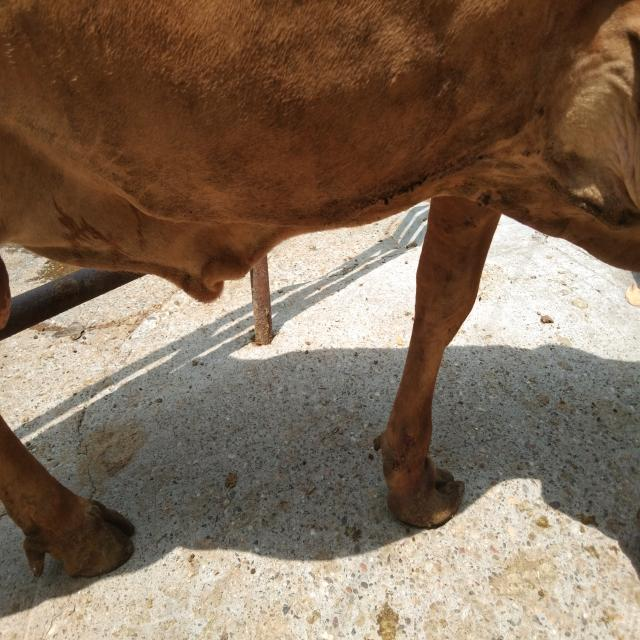Hoof: (386, 455, 465, 529)
